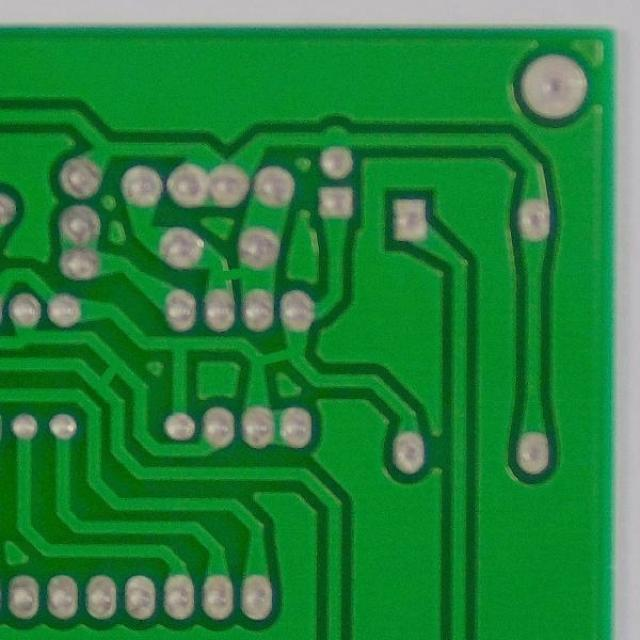short: (242, 340, 312, 383), (203, 252, 258, 295), (82, 353, 133, 397)
